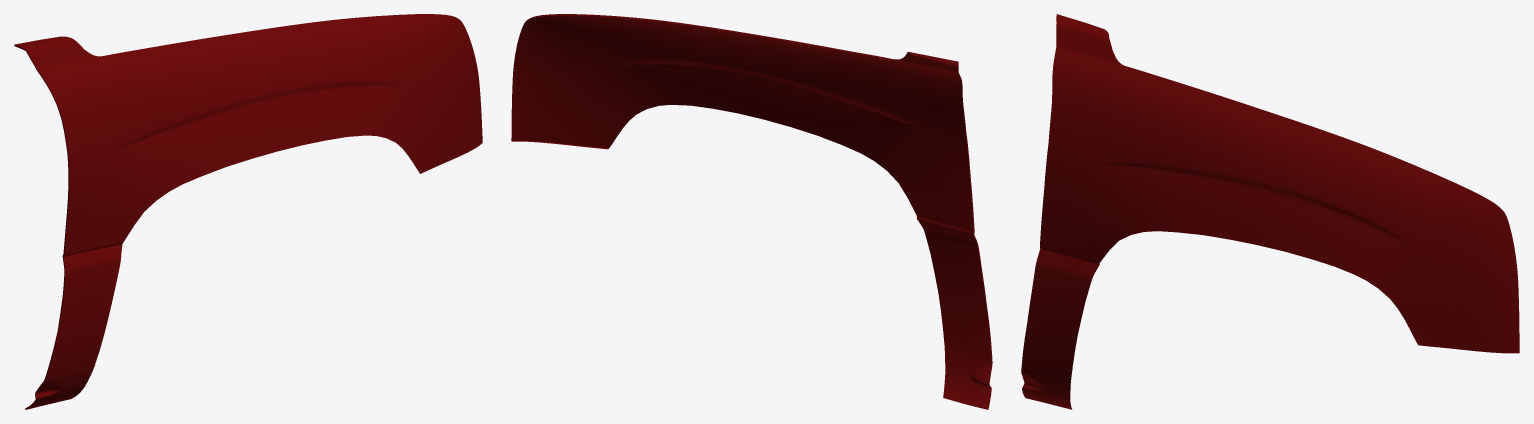
3 views of the same model, side by side, from view 1: azimuth 30°, elevation 25°; view 2: azimuth 150°, elevation 25°; view 3: azimuth 330°, elevation 25° (orthographic). The views are drawn at different scales.
Parts seen in each view (by area): view 1: U805_4A_121B_R_1_DaS_U805_4A_121B_R, U805_4A_121B_R_1_DaS_U805_4A_121B_R_E; view 2: U805_4A_121B_R_1_DaS_U805_4A_121B_R, U805_4A_121B_R_1_DaS_U805_4A_121B_R_E; view 3: U805_4A_121B_R_1_DaS_U805_4A_121B_R.
Boxes of the visible parts, x1=… form: U805_4A_121B_R_1_DaS_U805_4A_121B_R: x1=15, y1=14, x2=482, y2=409; U805_4A_121B_R_1_DaS_U805_4A_121B_R_E: x1=14, y1=44, x2=419, y2=409; U805_4A_121B_R_1_DaS_U805_4A_121B_R: x1=511, y1=15, x2=991, y2=409; U805_4A_121B_R_1_DaS_U805_4A_121B_R_E: x1=511, y1=14, x2=992, y2=409; U805_4A_121B_R_1_DaS_U805_4A_121B_R: x1=1021, y1=14, x2=1519, y2=409.
Size of the model in its own units: 112 by 81.17 by 15.85.
